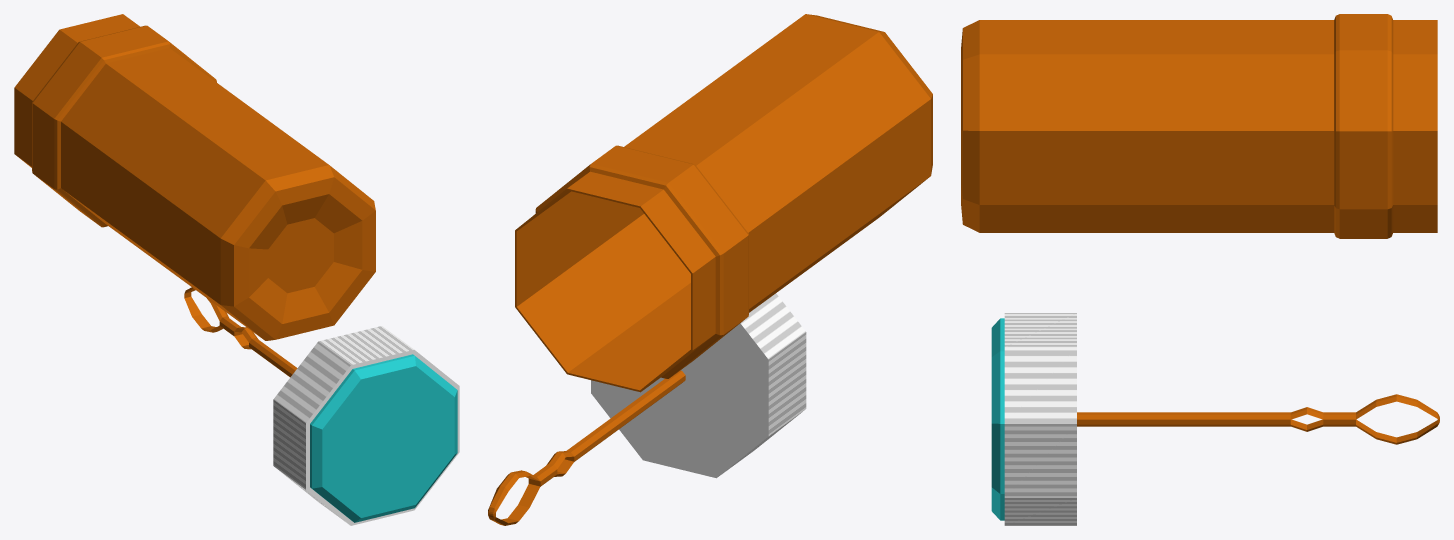
File: Pompero.fbx
3 renders of one model, left to right at view 1: azimuth 30°, elevation 25°; view 2: azimuth 150°, elevation 25°; view 3: azimuth 270°, elevation 25°, orthographic. The views are drawn at different scales.
Parts seen in each view (by area): view 1: Circle.001, Pompero; view 2: Circle.001, Pompero; view 3: Circle.001, Pompero.
Part boxes in pixels (x1,y1,x2,y2): Circle.001: (14, 14, 375, 340); Pompero: (184, 287, 459, 525); Circle.001: (515, 14, 932, 392); Pompero: (488, 293, 806, 525); Circle.001: (961, 14, 1437, 238); Pompero: (991, 313, 1439, 525).
Size of the model in its own units: 16.21 by 23.25 by 23.78.
